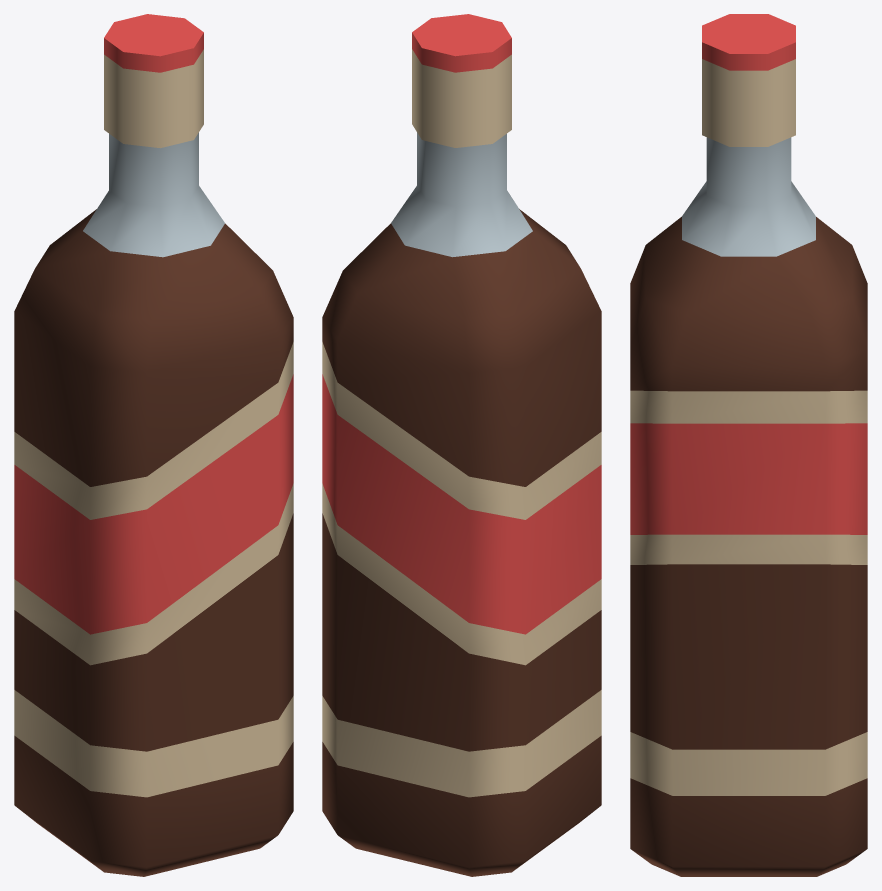
The model's file is prop_081.fbx.
The picture shows the model from 3 angles, left to right: view 1: azimuth 30°, elevation 25°; view 2: azimuth 150°, elevation 25°; view 3: azimuth 270°, elevation 25°; orthographic projection.
Visible parts, largest first — view 1: prop_081; view 2: prop_081; view 3: prop_081.
Boxes of the visible parts, bbox=[...] form: prop_081: bbox=[14, 14, 293, 876]; prop_081: bbox=[322, 14, 601, 876]; prop_081: bbox=[630, 14, 867, 876].
Bounding box in the file's own units: 11.55 × 11.55 × 43.01.
